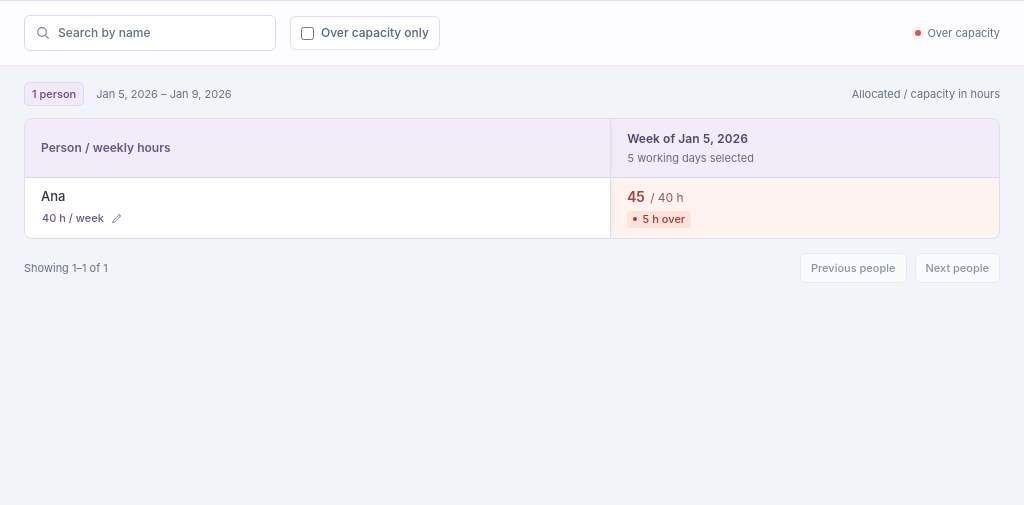
Test: capacity planning › moves focus to the summary when a save removes the edited person from the filter
Step 1. Click the button with aria-label "Edit weekly hours for Ana" → x=82, y=218, box [36,208,128,228]
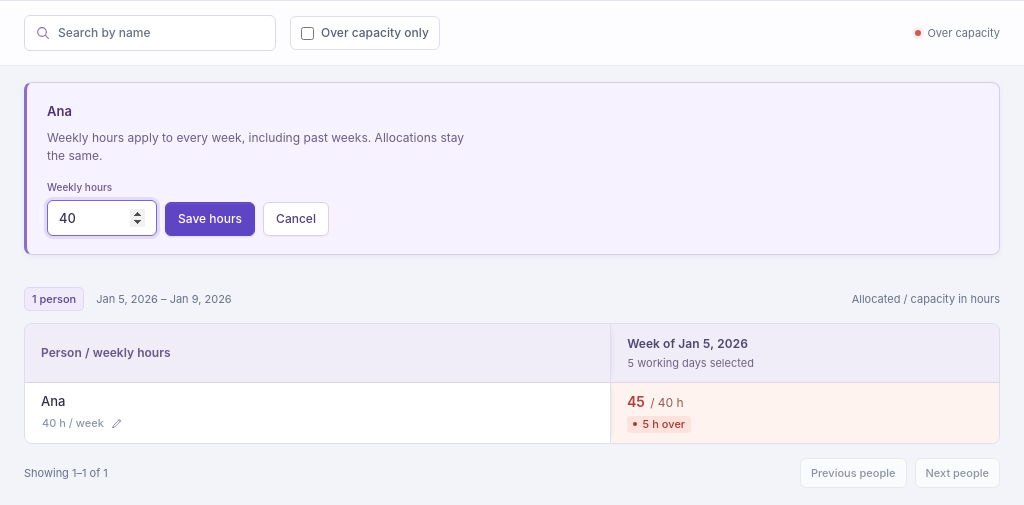
Step 2. Click the checkbox labelled "Over capacity only" → x=308, y=33, box [301,26,314,40]
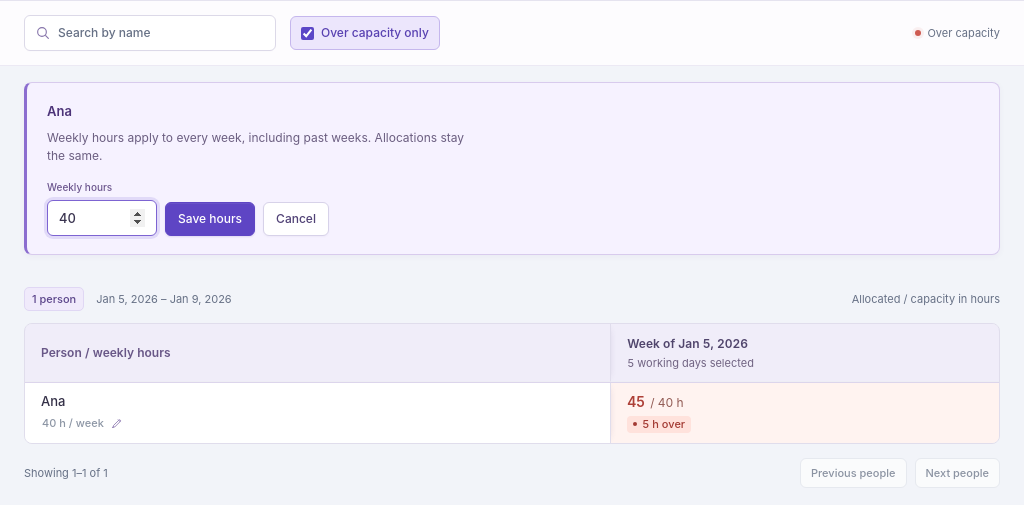
Step 3. Replace the text in the number field labelled "Weekly hours" with "50" → x=102, y=218, box [47,200,157,236]
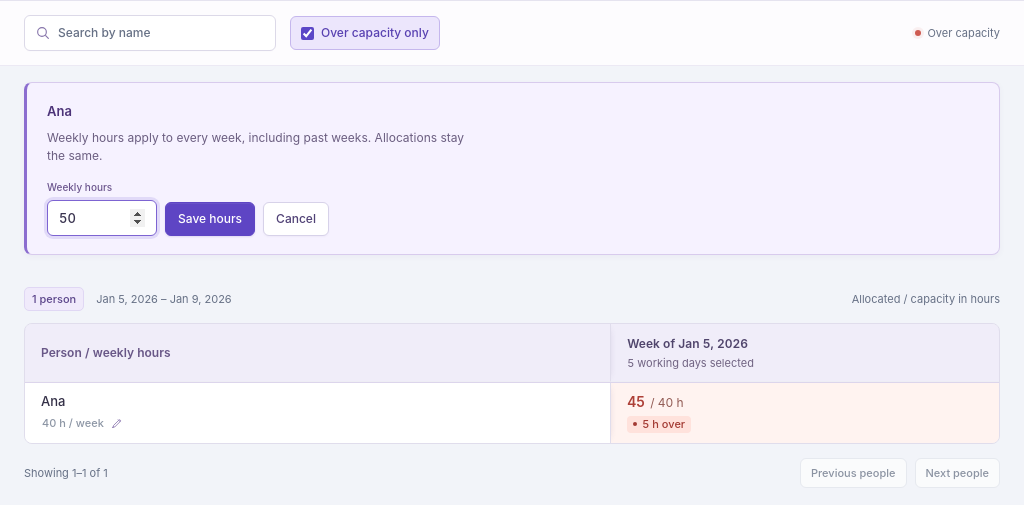
Step 4. Click the button "Save hours" → x=210, y=219, box [165,202,255,236]
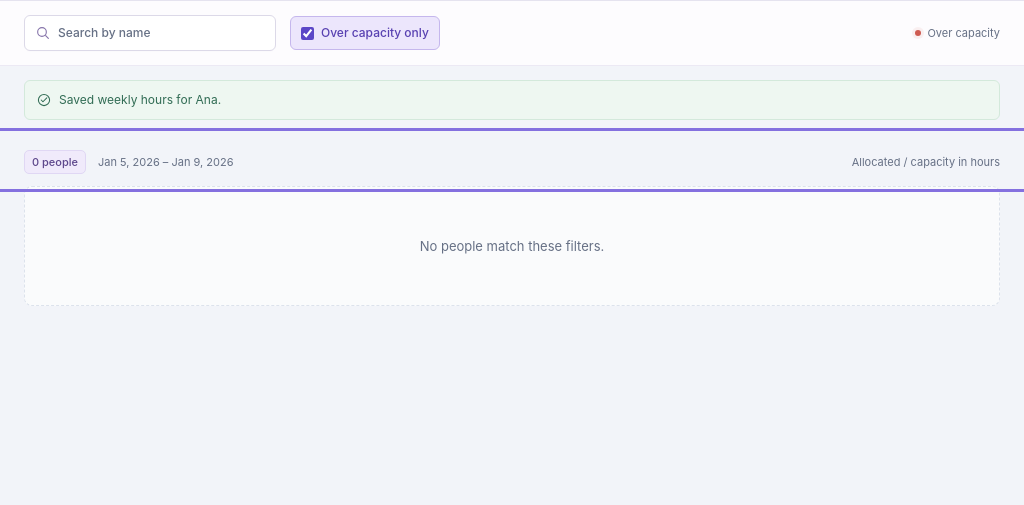
Now the text "No people match these filters." is shown, box [24,186,1000,306]
